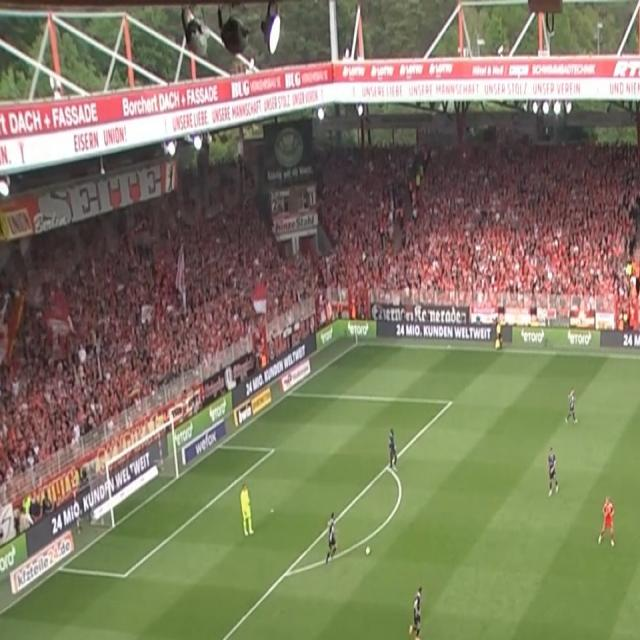ball: (365, 544, 371, 556)
